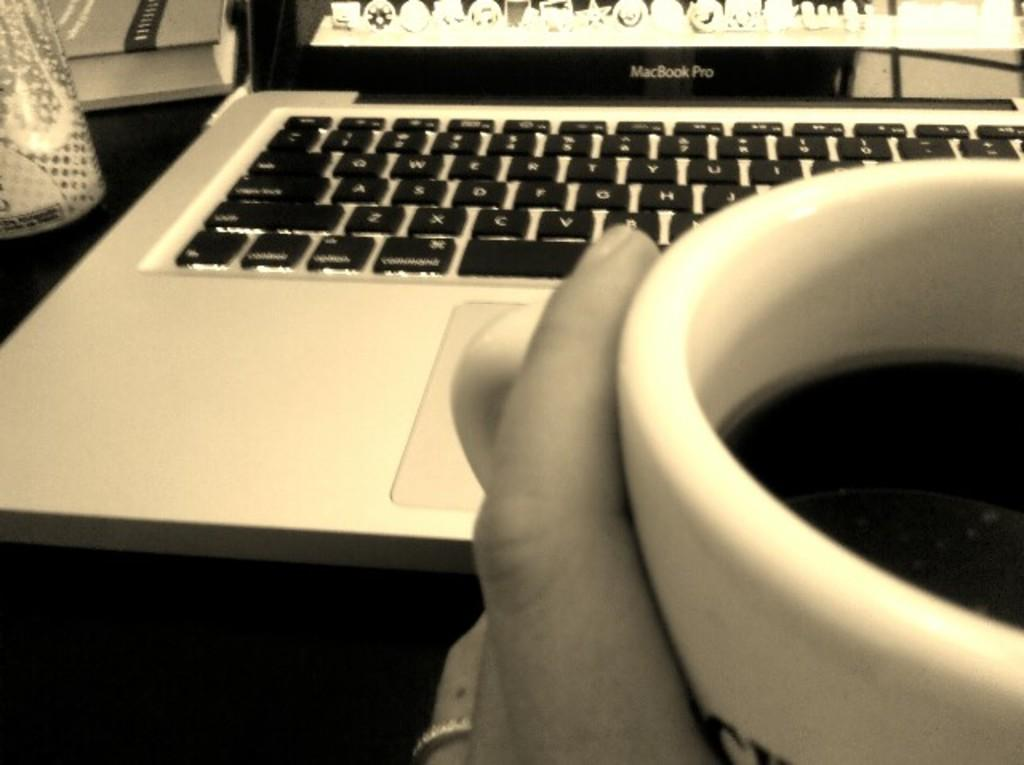Computer-keyboard: (171, 110, 1022, 288)
